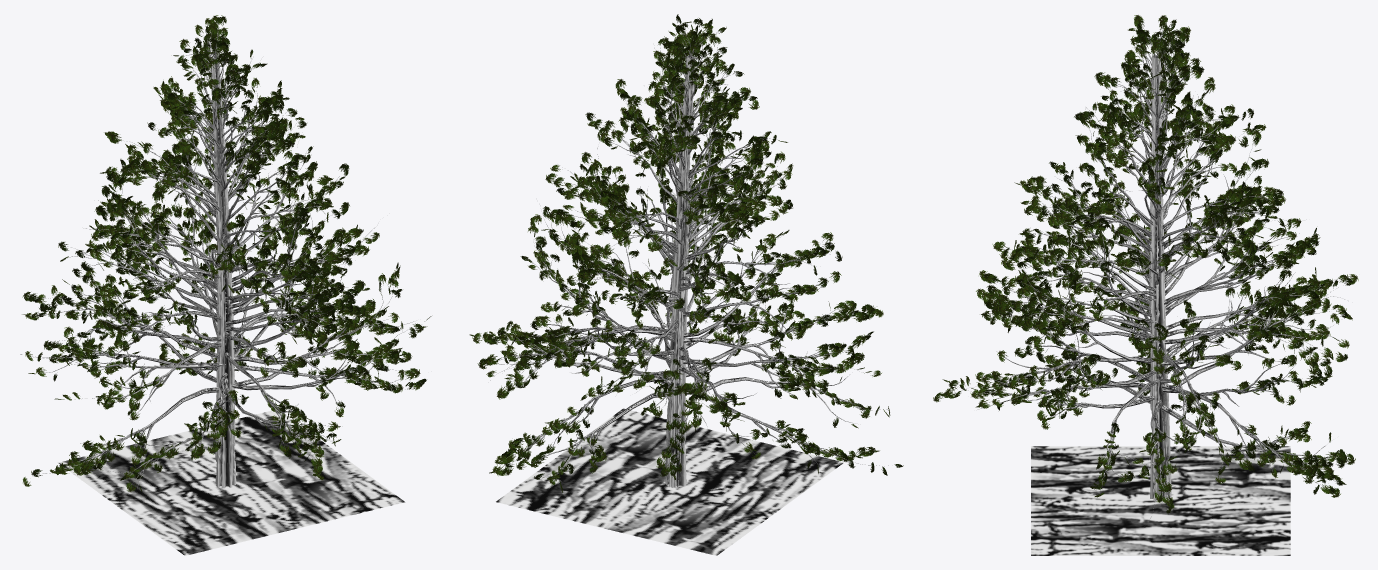
File: pine.4.5.3.fbx
3 renders of one model, left to right at view 1: azimuth 30°, elevation 25°; view 2: azimuth 150°, elevation 25°; view 3: azimuth 270°, elevation 25°, orthographic.
Parts seen in each view (by area): view 1: plant_pmat4, Grid, plant_pmat5, plant_pmat2, plant_pmat3, plant_pmat1; view 2: plant_pmat4, Grid, plant_pmat5, plant_pmat2, plant_pmat3, plant_pmat1; view 3: plant_pmat4, Grid, plant_pmat5, plant_pmat2, plant_pmat3, plant_pmat1.
Part boxes in pixels (box(x1,y1,x2,y2)): plant_pmat4: box(22, 15, 431, 491); Grid: box(58, 410, 405, 555); plant_pmat5: box(49, 15, 403, 472); plant_pmat2: box(52, 24, 379, 466); plant_pmat3: box(20, 28, 414, 494); plant_pmat1: box(211, 60, 236, 488); plant_pmat4: box(469, 18, 903, 492); Grid: box(496, 408, 843, 555); plant_pmat5: box(506, 14, 865, 479); plant_pmat2: box(526, 24, 851, 475); plant_pmat3: box(490, 29, 888, 478); plant_pmat1: box(665, 55, 695, 487); plant_pmat4: box(933, 15, 1358, 513); Grid: box(1031, 446, 1290, 555); plant_pmat5: box(970, 15, 1342, 502); plant_pmat2: box(982, 28, 1330, 492); plant_pmat3: box(955, 26, 1351, 518); plant_pmat1: box(1149, 55, 1171, 502).
Size of the model in its own units: 381 by 408 by 332.
